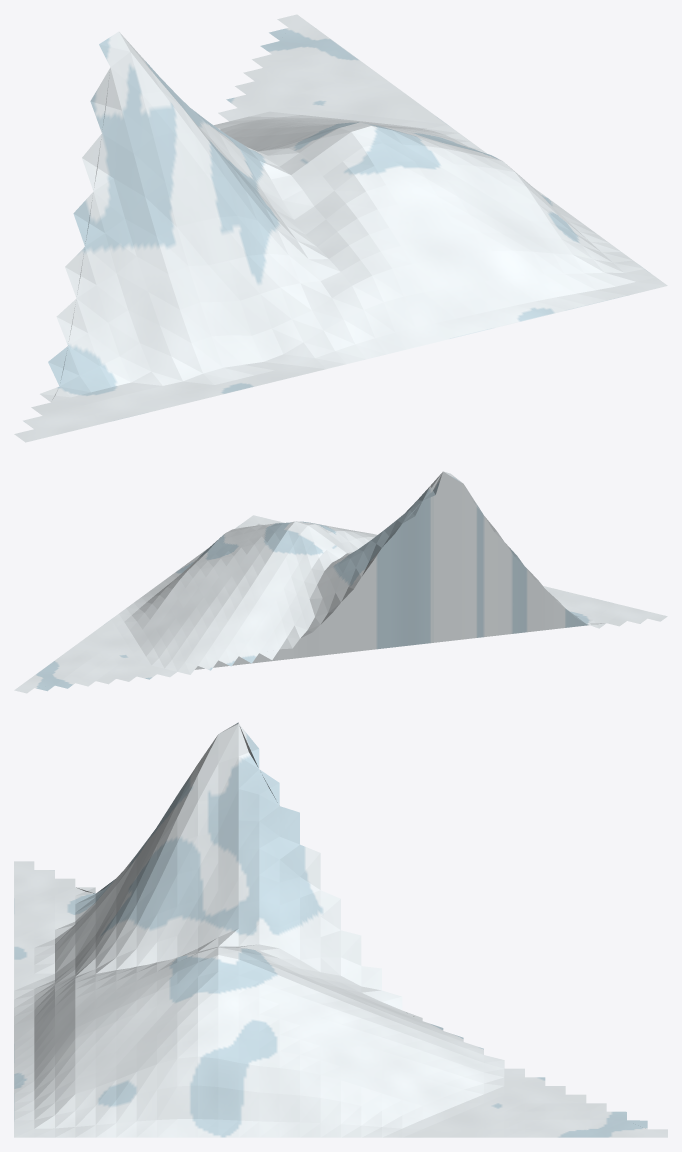
The model's file is Snow_Mountains_05_NE.obj.
The picture shows the model from 3 angles, top to bottom: view 1: azimuth 30°, elevation 25°; view 2: azimuth 150°, elevation 25°; view 3: azimuth 270°, elevation 25°; orthographic projection. The views are drawn at different scales.
Bounding box in the file's own units: 10 × 3.93 × 10.
1 material, 1 textured.
